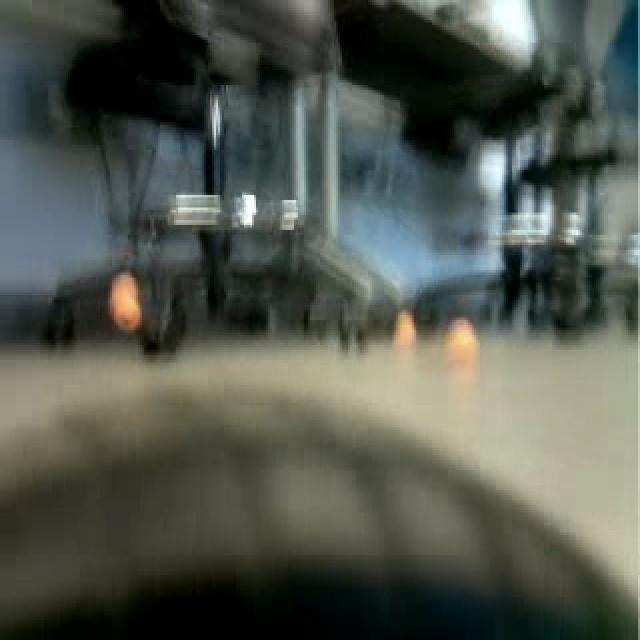oball: (110, 283, 146, 337), (445, 319, 478, 368), (394, 307, 421, 350)
